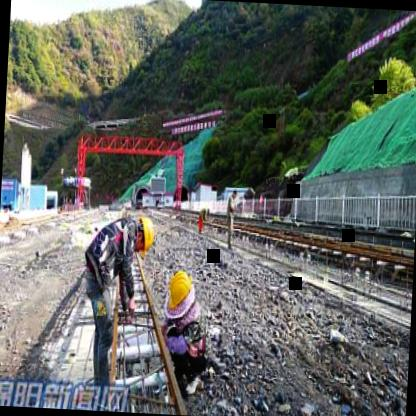helmet: (164, 264, 195, 320), (128, 212, 157, 260)
